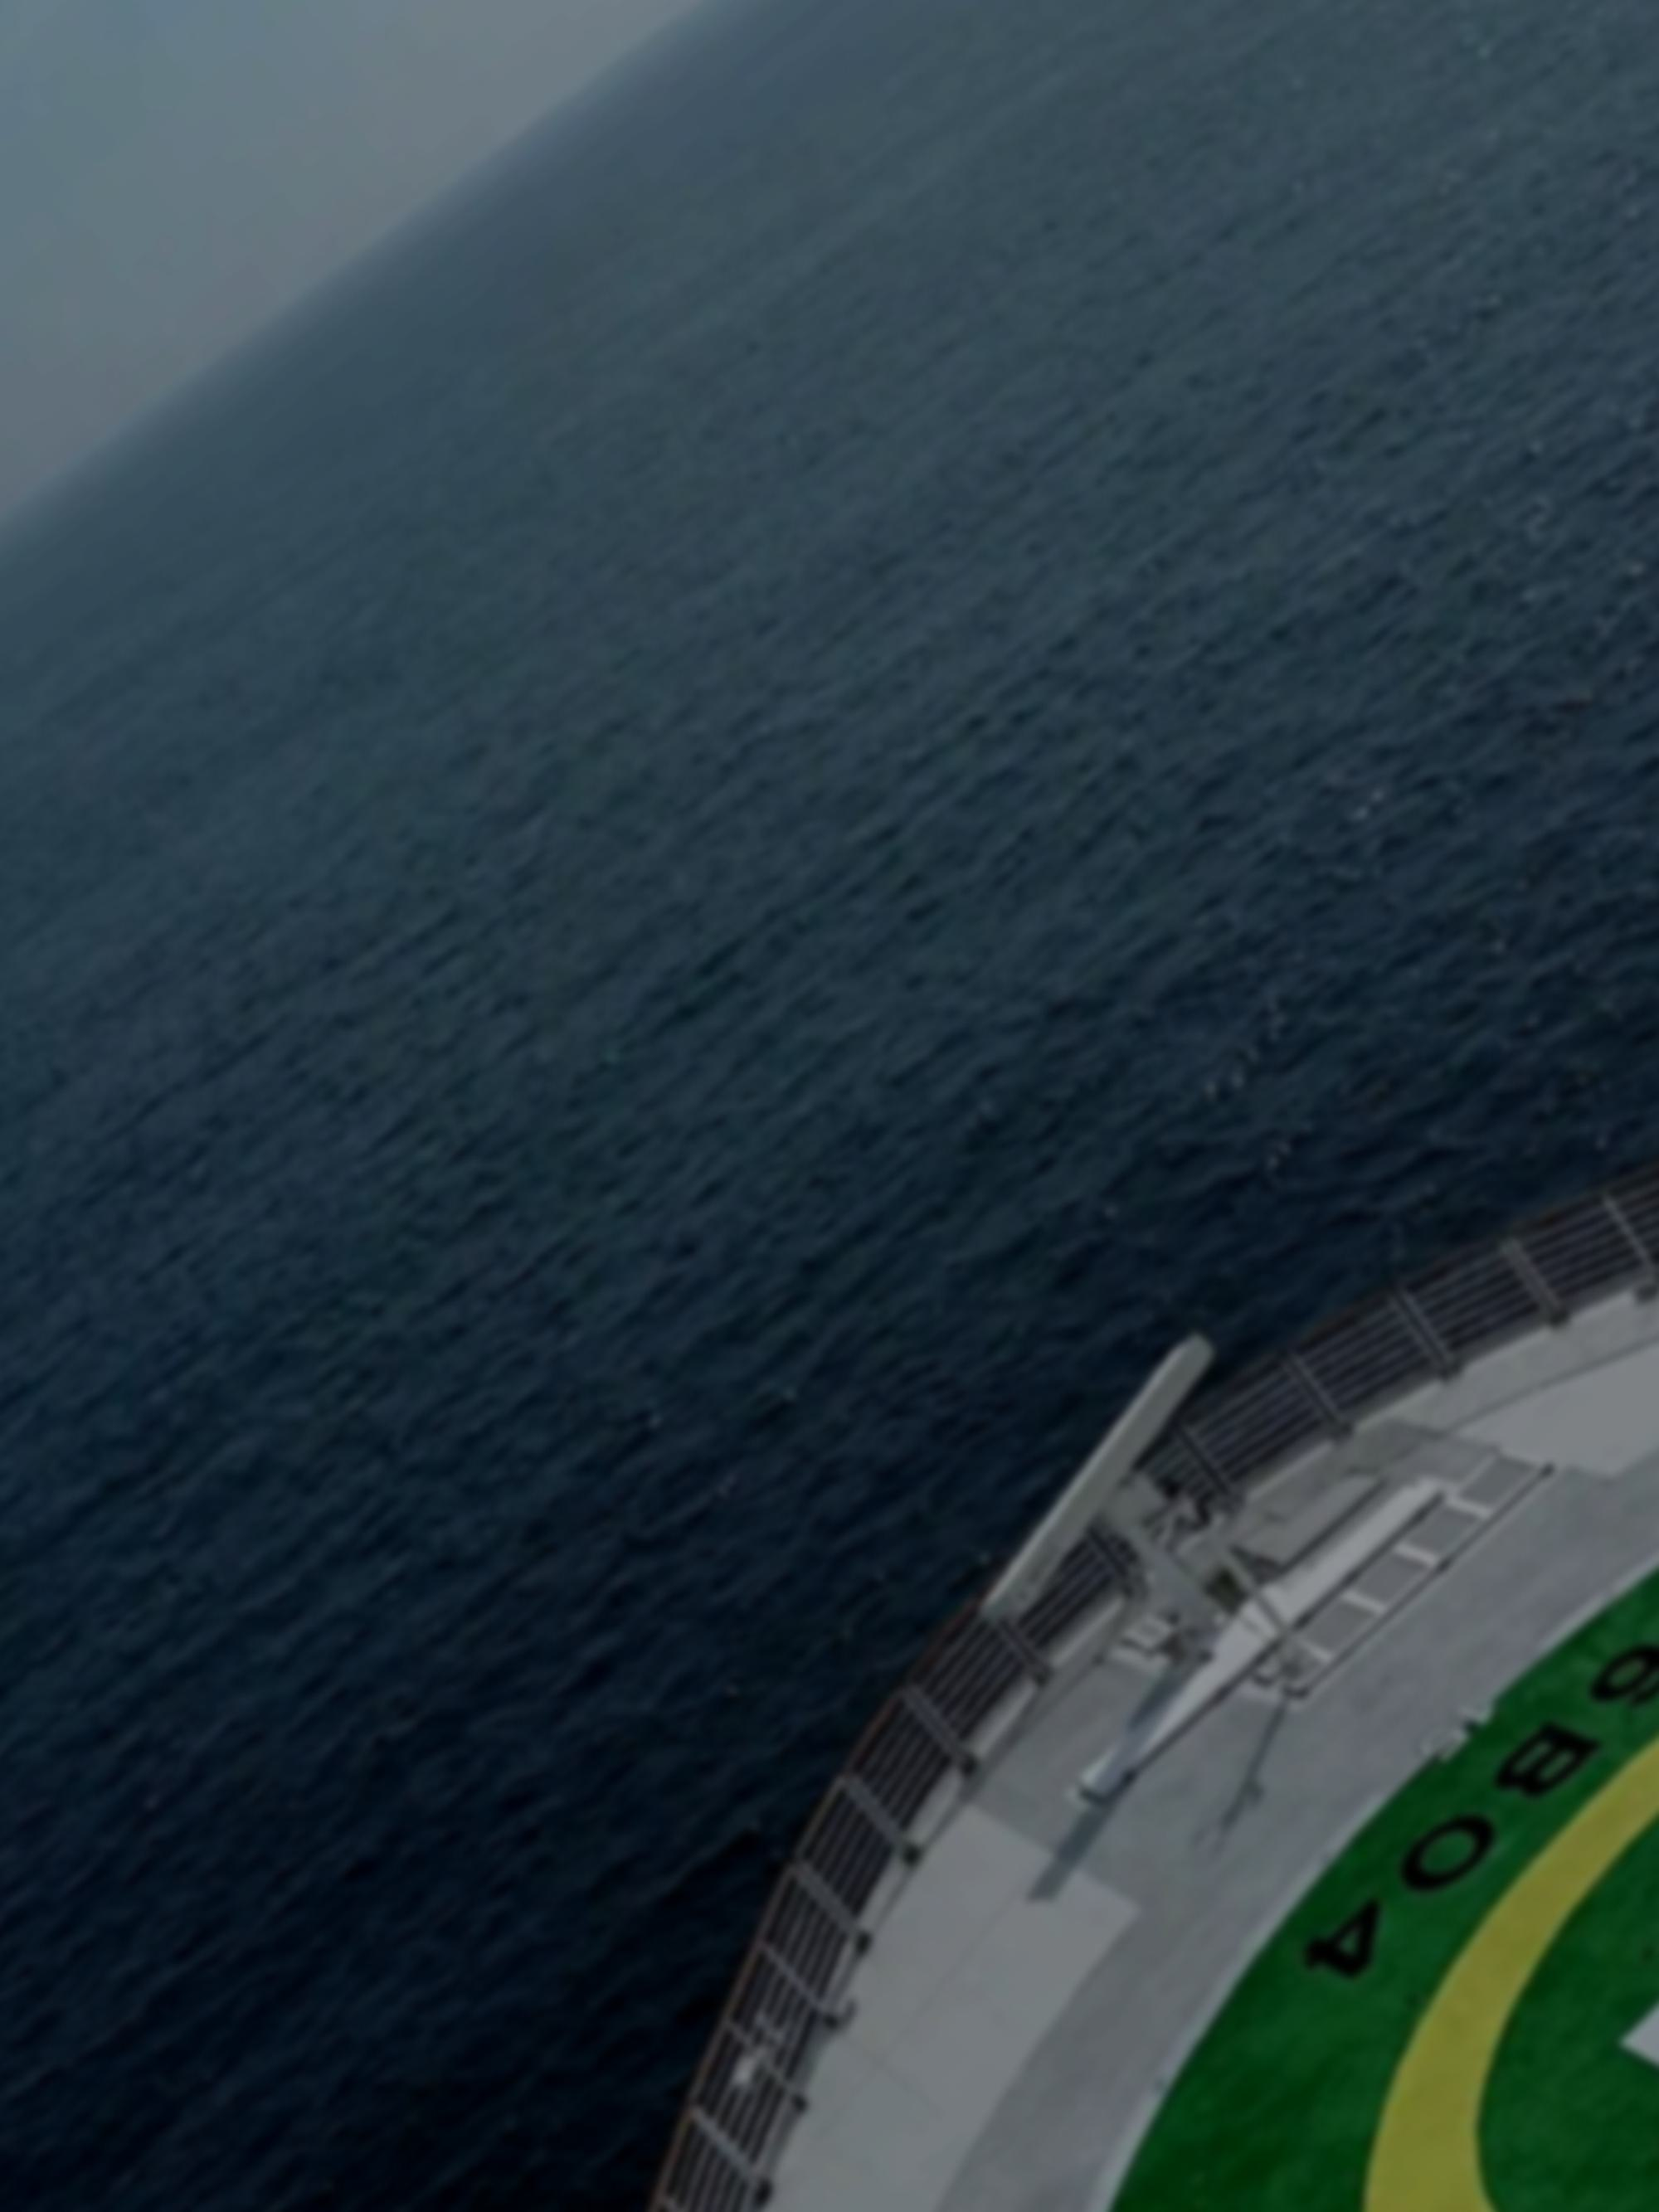Apron: (1366, 1705, 1659, 2212)
